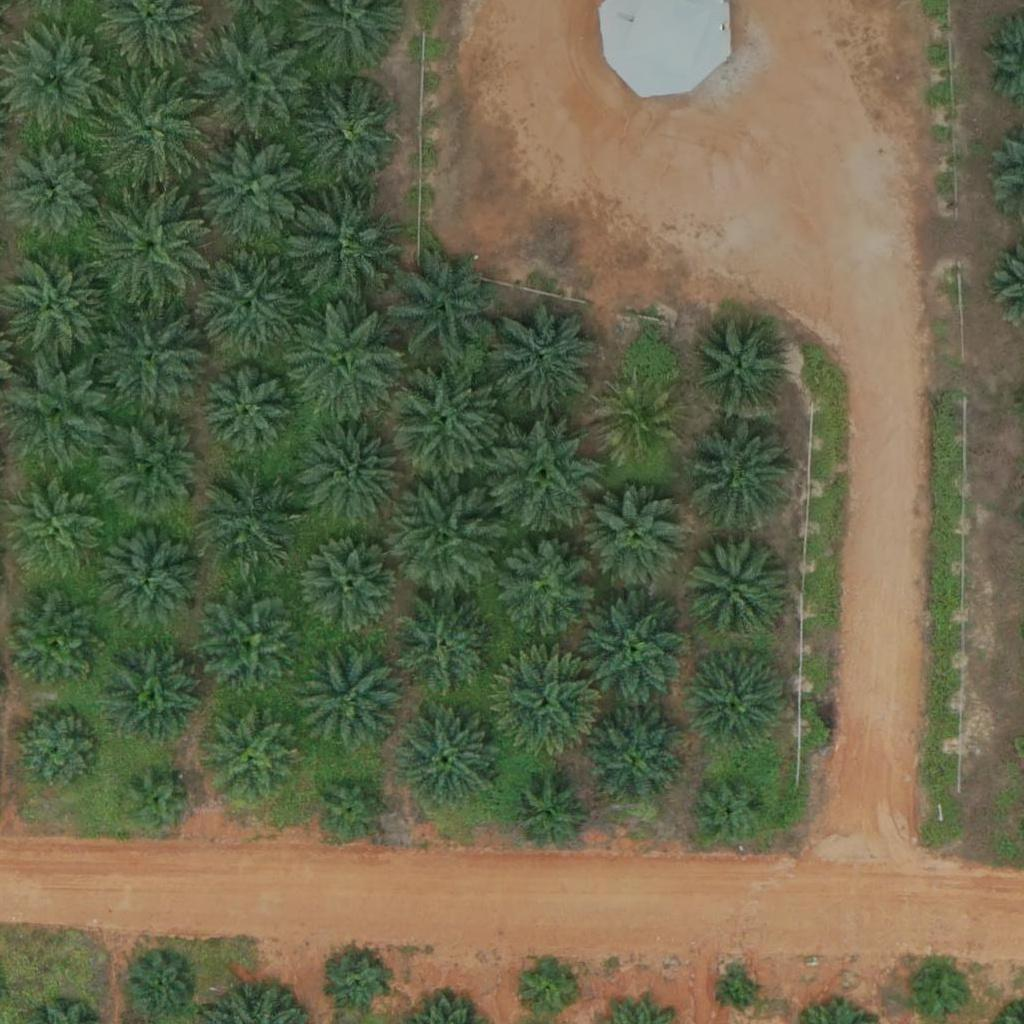Kelapa_Sawit: (491, 302, 604, 416), (489, 418, 602, 532), (389, 253, 502, 367), (578, 591, 691, 704), (94, 192, 207, 305), (93, 297, 206, 410), (198, 24, 310, 138), (389, 359, 501, 473), (292, 192, 404, 306), (491, 652, 603, 765), (90, 72, 202, 185), (686, 417, 798, 530), (386, 484, 498, 597), (289, 306, 401, 419), (193, 251, 305, 364), (2, 353, 114, 466), (195, 136, 307, 249), (688, 317, 788, 418), (585, 709, 685, 810), (394, 600, 494, 701), (398, 707, 498, 808), (300, 423, 400, 524), (301, 536, 401, 637), (301, 645, 401, 746), (200, 468, 300, 569), (202, 594, 302, 695), (202, 706, 302, 807), (108, 418, 208, 519), (102, 526, 202, 627), (103, 648, 203, 749), (9, 475, 109, 576), (8, 592, 108, 693), (300, 84, 400, 184), (683, 537, 783, 637), (688, 651, 788, 751), (589, 490, 689, 590), (495, 540, 595, 640), (594, 380, 682, 468), (14, 706, 102, 794), (202, 370, 289, 458), (11, 146, 98, 234), (694, 773, 769, 849), (120, 765, 195, 841), (512, 779, 587, 854), (316, 773, 391, 848), (129, 954, 192, 1017), (329, 952, 391, 1015), (515, 953, 577, 1016), (722, 973, 759, 1011)
